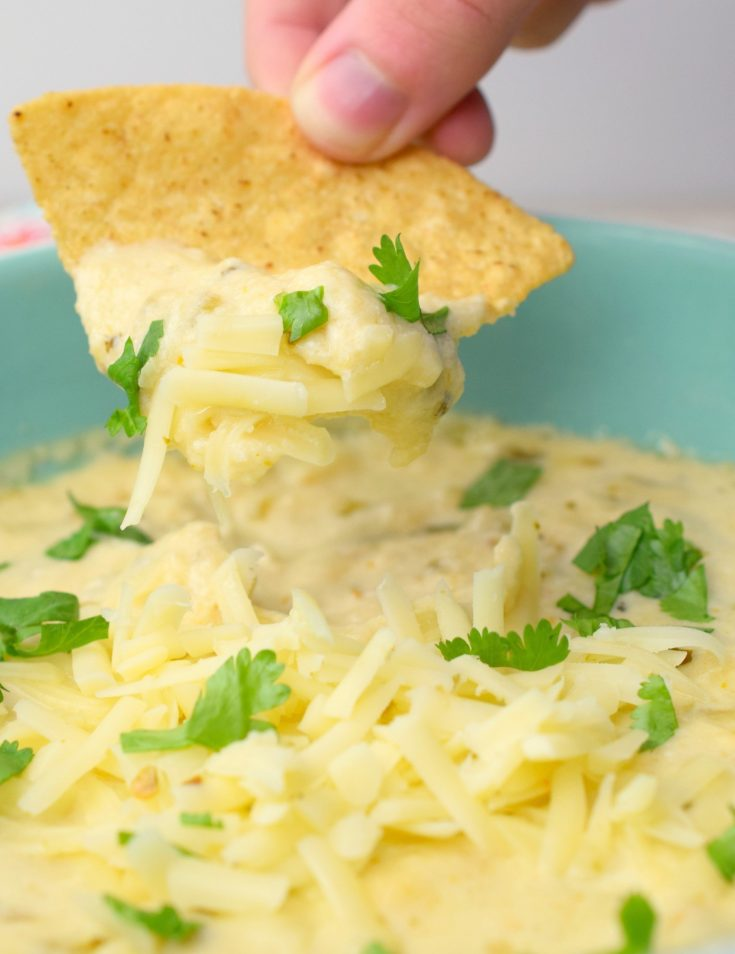cheese: (427, 521, 718, 848), (81, 212, 361, 425), (110, 533, 372, 759)
